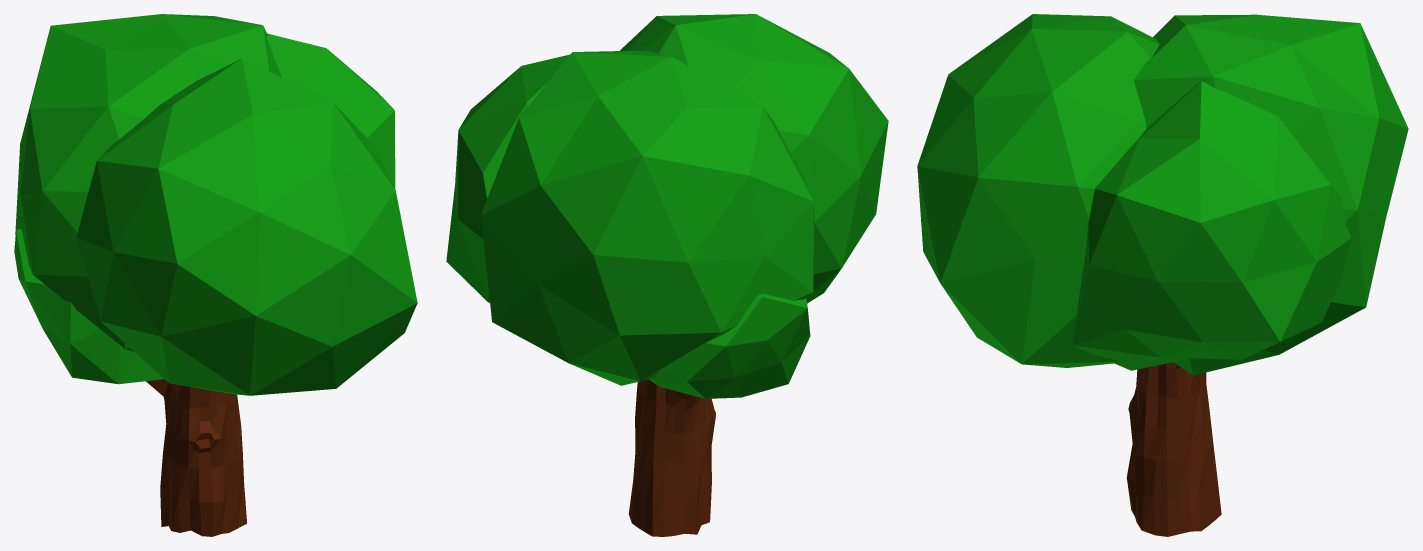
The model's file is tree.obj.
3 views of the same model, side by side, from view 1: azimuth 30°, elevation 25°; view 2: azimuth 150°, elevation 25°; view 3: azimuth 270°, elevation 25° (orthographic). The views are drawn at different scales.
Parts seen in each view (by area): view 1: Icosphere, Cylinder; view 2: Icosphere, Cylinder; view 3: Icosphere, Cylinder.
Part boxes in pixels (x1,y1,x2,y2): Icosphere: (14, 14, 417, 395); Cylinder: (146, 379, 246, 536); Icosphere: (446, 14, 888, 398); Cylinder: (628, 379, 715, 536); Icosphere: (917, 14, 1408, 375); Cylinder: (1126, 362, 1221, 536).
Size of the model in its own units: 16.5 by 21.82 by 19.57.
